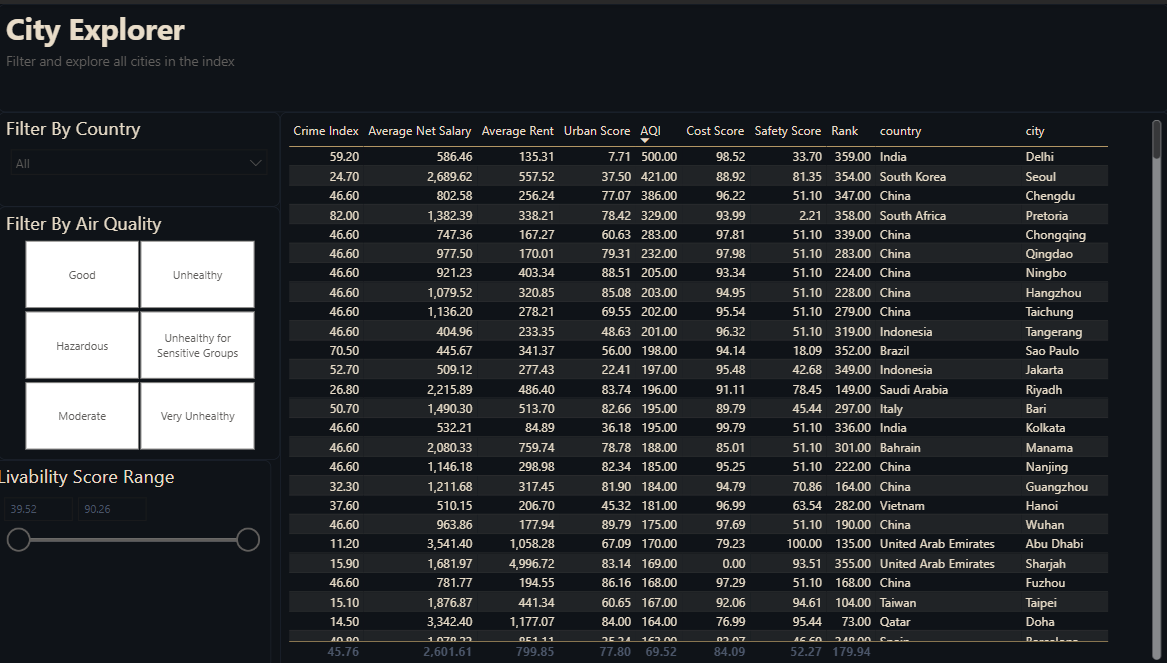

What the dashboard file says about the page in this screenshot:
{"tool":"powerbi","page":{"name":"City Explorer","canvas":[1280,720],"ordinal":3},"visuals":[{"type":"slicer","title":"Filter By Country","fields":{"Values":["daedalus_scored (2).country"]},"box":[9.8,117.1,305.8,102.5],"z":0},{"type":"slicer","title":"Filter By Air Quality","fields":{"Values":["daedalus_scored (2).aqi_category"]},"box":[9.8,219.6,305.8,274.9],"z":1000},{"type":"slicer","title":"Livability Score Range","fields":{"Values":["daedalus_scored (2).livability_score_absolute"]},"box":[0,494.5,305.8,226.1],"z":2000},{"type":"tableEx","fields":{"Values":["Avg(daedalus_scored (2).crime_index)","Avg(daedalus_scored (2).avg_net_salary_usd)","Avg(daedalus_scored (2).rent_1br_outside_usd)","Avg(daedalus_scored (2).urban_score)","Avg(daedalus_scored (2).aqi_value)","Avg(daedalus_scored (2).cost_score_absolute)","Avg(daedalus_scored (2).safety_score)","Avg(daedalus_scored (2).rank_absolute)","daedalus_scored (2).country","daedalus_scored (2).city"]},"box":[315.5,117.1,964.5,603.4],"z":3000},{"type":"textbox","title":"City Explorer","box":[9.8,0,1270.3,117.1],"z":4000}]}

Visuals, with their boxes in screenshot pixels (x1, y1, x2, y2), scaled from the page's 1280x720 canvas onto the 1167x663 screenshot:
"Filter By Country" slicer: left=9, top=108, right=288, bottom=202
"Filter By Air Quality" slicer: left=9, top=202, right=288, bottom=455
"Livability Score Range" slicer: left=0, top=455, right=279, bottom=662
tableEx - Avg(daedalus_scored (2).crime_index) x Avg(daedalus_scored (2).avg_net_salary_usd): left=288, top=108, right=1166, bottom=662
"City Explorer" textbox: left=9, top=0, right=1166, bottom=108
